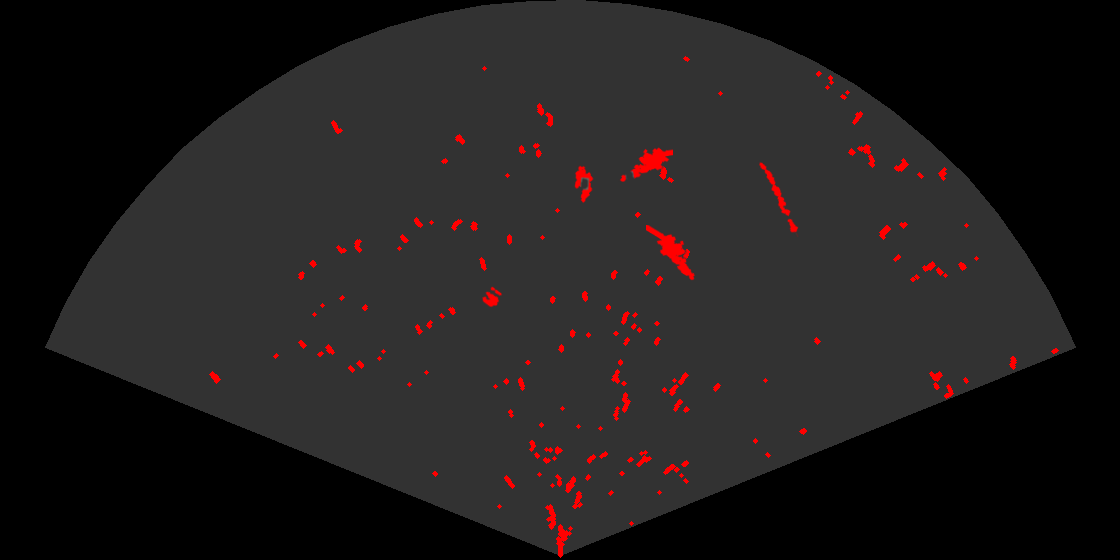AUV: (573, 164, 595, 205)
ball: (481, 285, 504, 309)
chain: (758, 160, 800, 237)
frogman: (646, 225, 697, 282), (618, 146, 673, 183)
